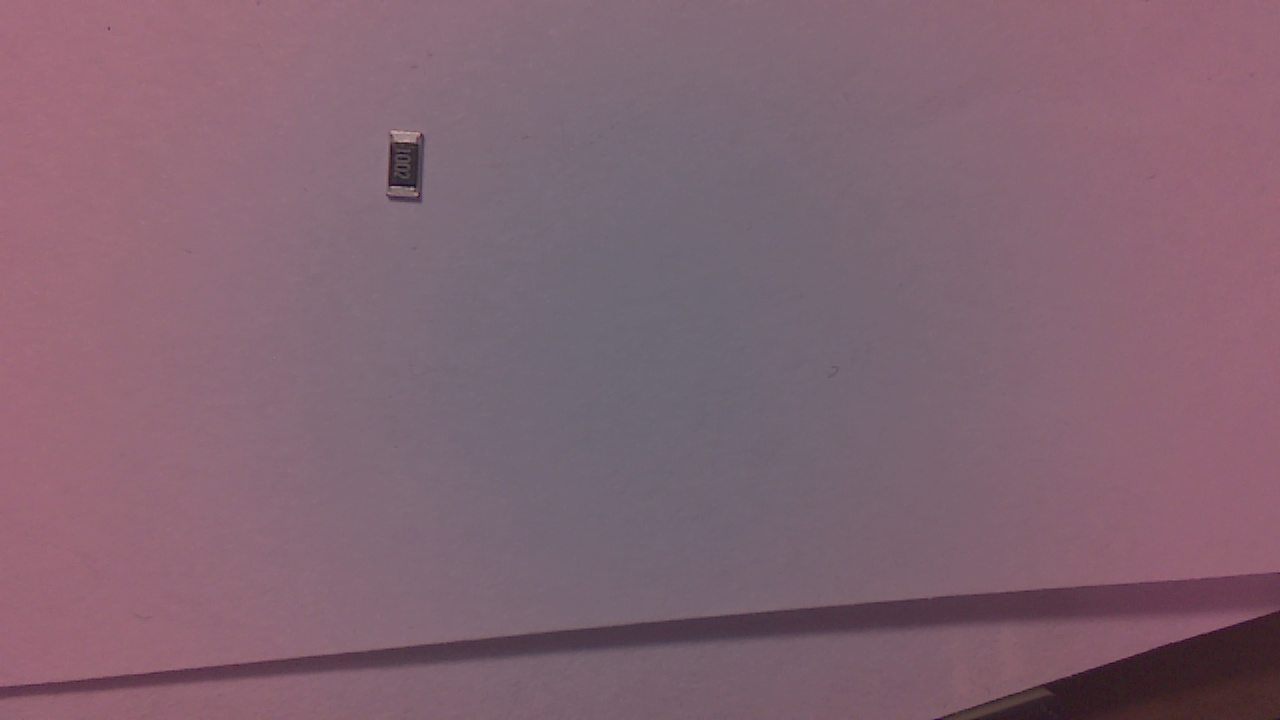Resistor: (390, 133, 432, 211)
